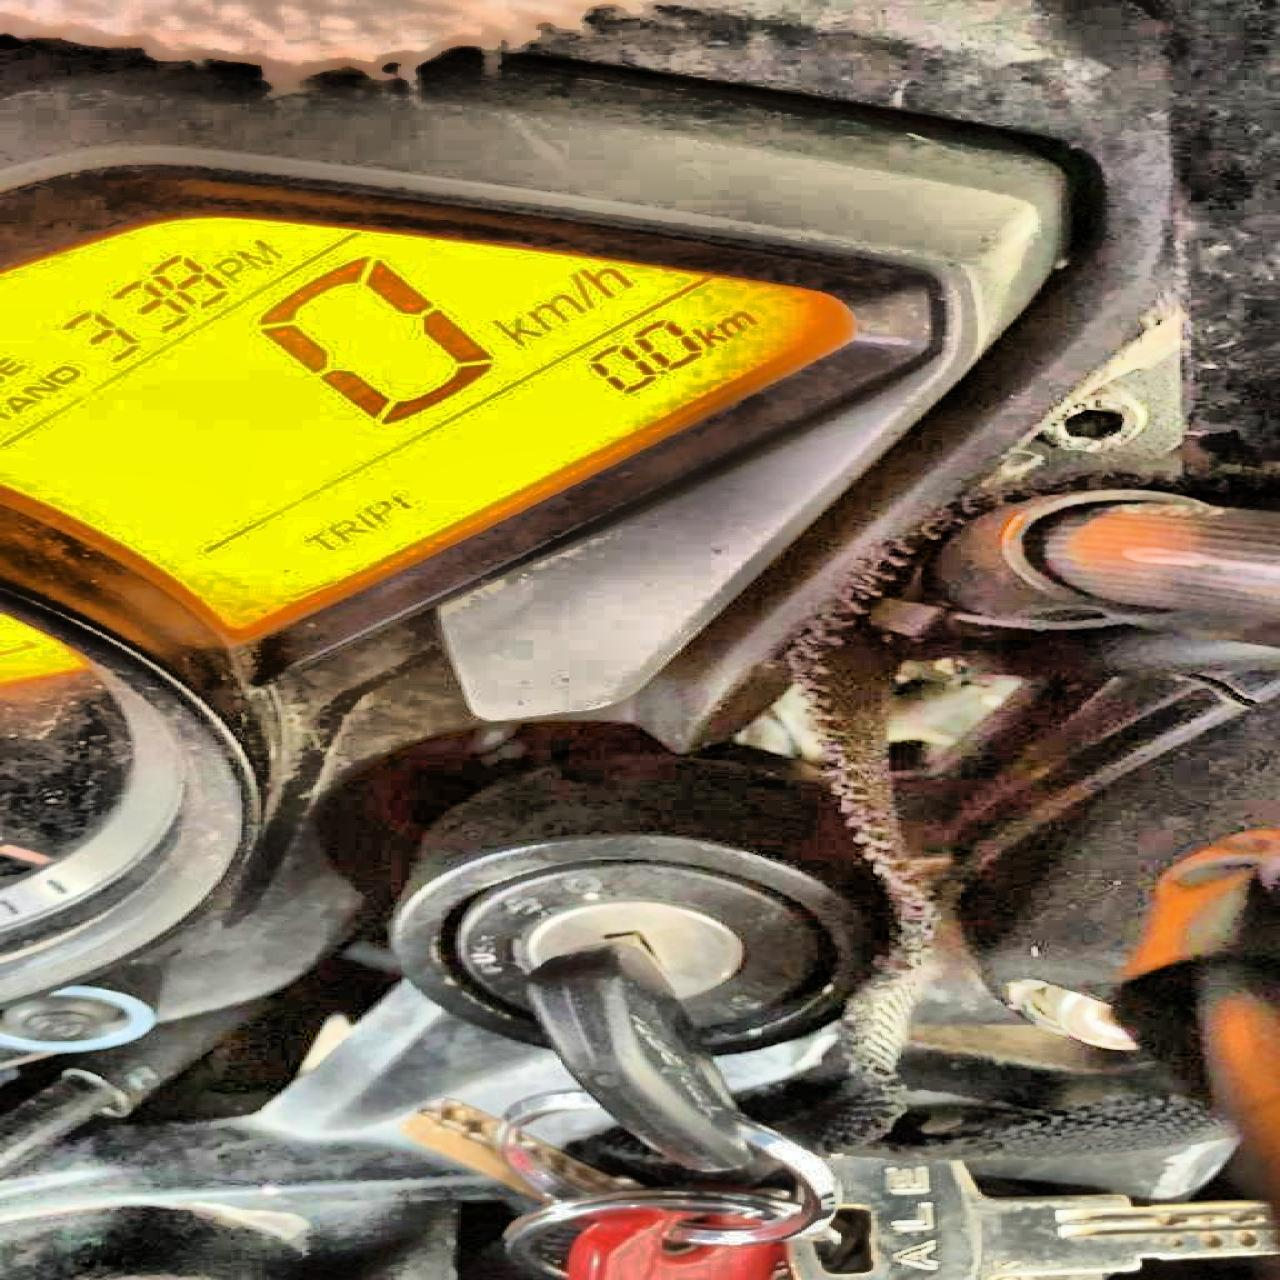-: (652, 367, 667, 377)
0: (248, 253, 496, 425), (628, 316, 702, 370), (585, 341, 655, 393)
1: (387, 492, 407, 509)
3: (57, 308, 139, 363), (107, 278, 189, 332)
8: (144, 252, 229, 308)
X: (524, 292, 586, 329), (576, 263, 633, 297), (233, 239, 282, 268), (491, 316, 540, 343), (714, 308, 756, 336), (209, 257, 247, 281), (567, 272, 593, 307), (325, 519, 365, 542), (687, 325, 727, 346), (18, 377, 55, 397), (362, 498, 392, 523), (45, 365, 80, 384), (302, 530, 338, 550), (2, 394, 34, 413), (352, 511, 376, 531), (0, 356, 22, 375)
odometer: (0, 215, 864, 694)
